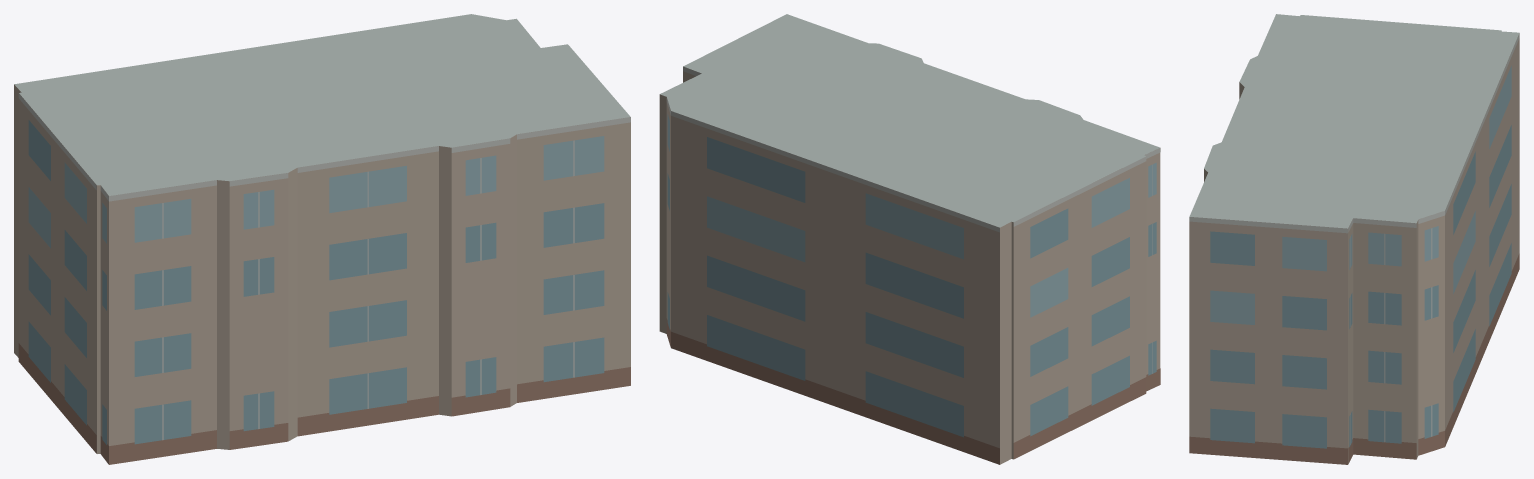
File: survey-upis-32954670.glb
3 views of the same model, side by side, from view 1: azimuth 30°, elevation 25°; view 2: azimuth 150°, elevation 25°; view 3: azimuth 270°, elevation 25° (orthographic). The views are drawn at different scales.
Parts seen in each view (by area): view 1: survey-upis-32954670.tmp; view 2: survey-upis-32954670.tmp; view 3: survey-upis-32954670.tmp.
Part boxes in pixels (box(x1,y1,x2,y2)): survey-upis-32954670.tmp: box(14, 14, 630, 464); survey-upis-32954670.tmp: box(659, 14, 1160, 464); survey-upis-32954670.tmp: box(1189, 14, 1519, 464).
Size of the model in its own units: 23.56 by 12.1 by 15.33.
